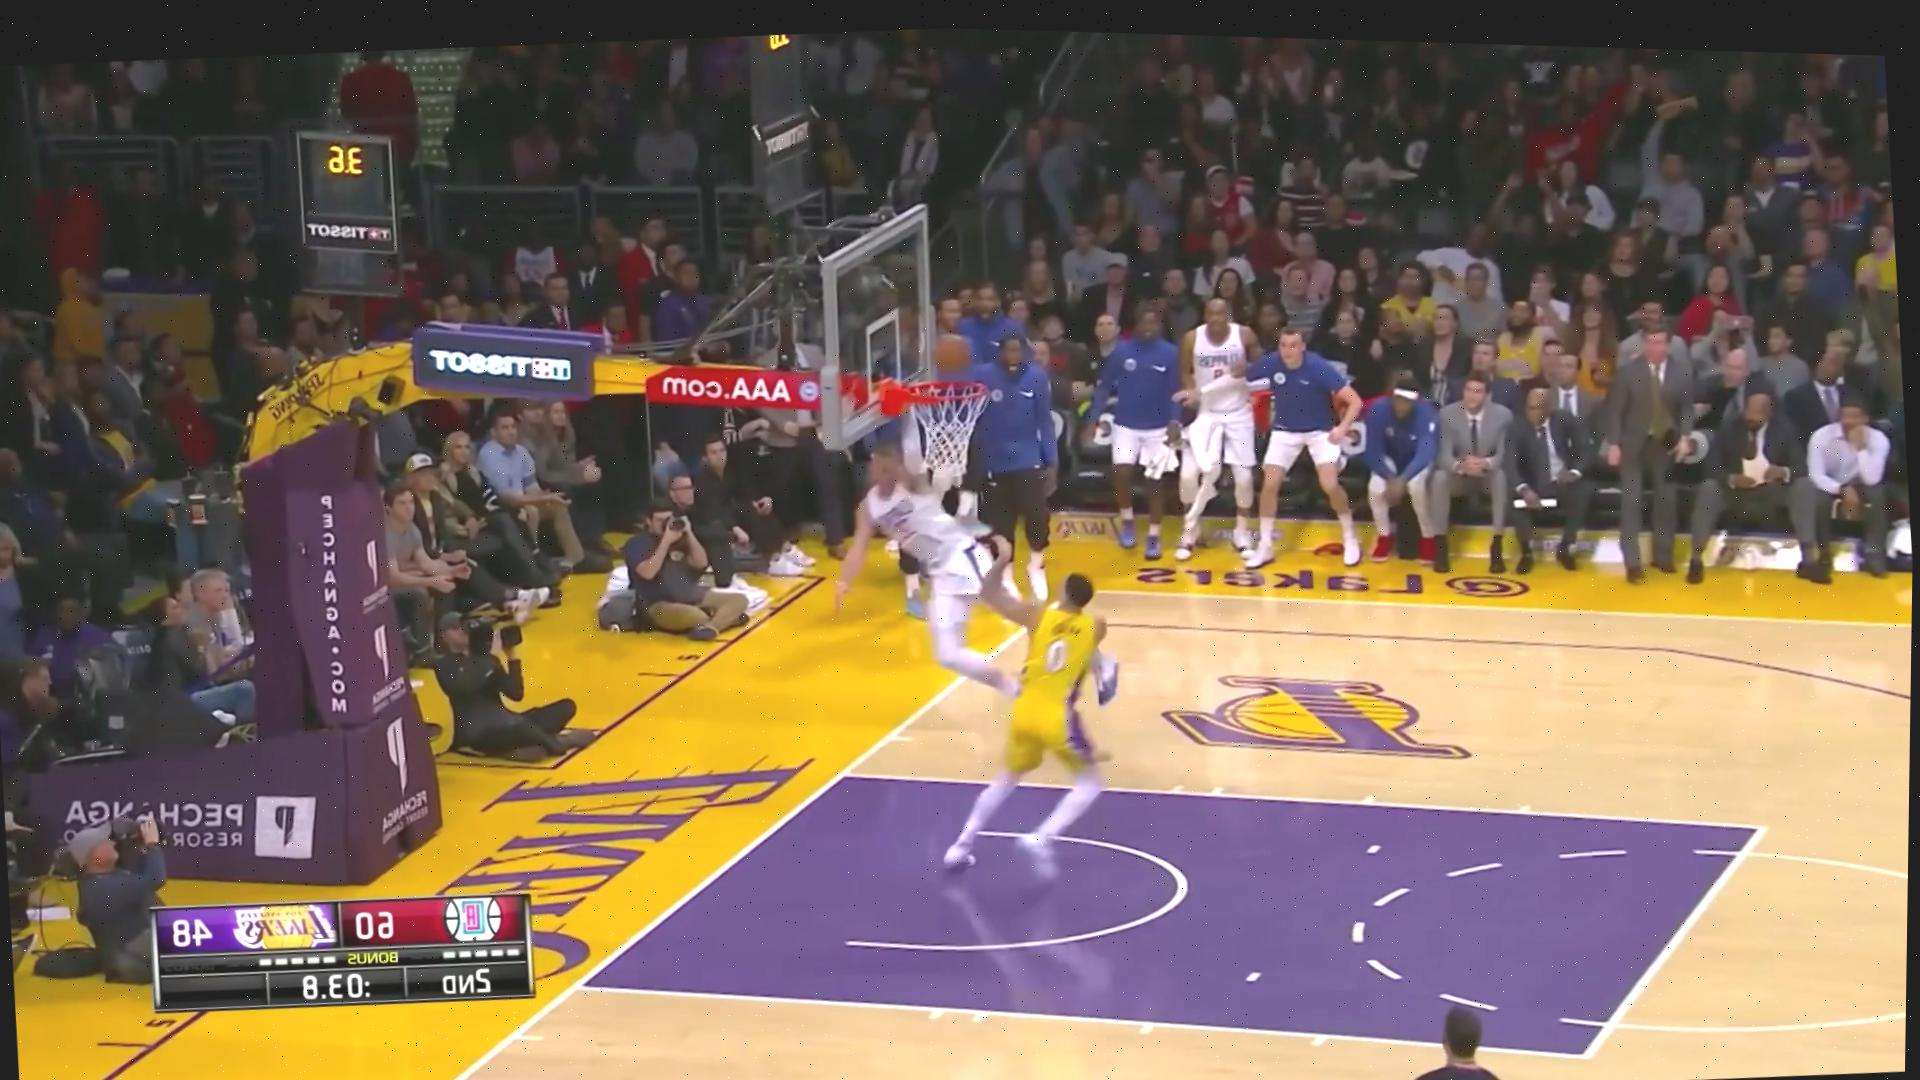foul: (853, 417, 1142, 840)
